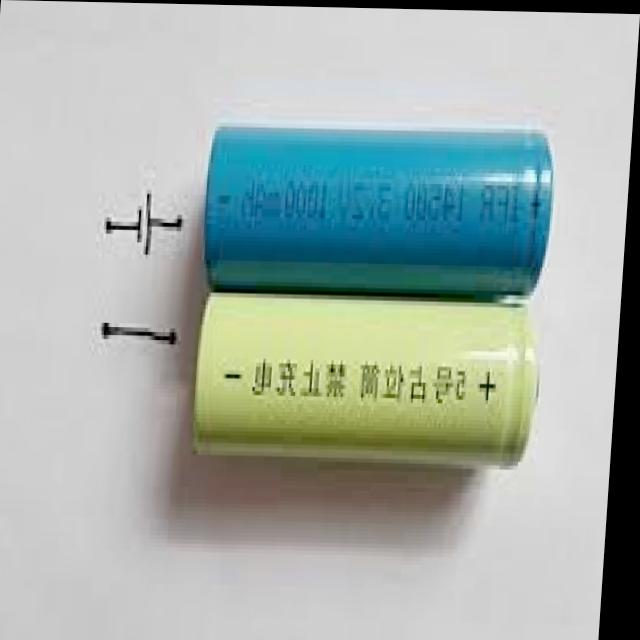B3: (166, 91, 574, 517)
